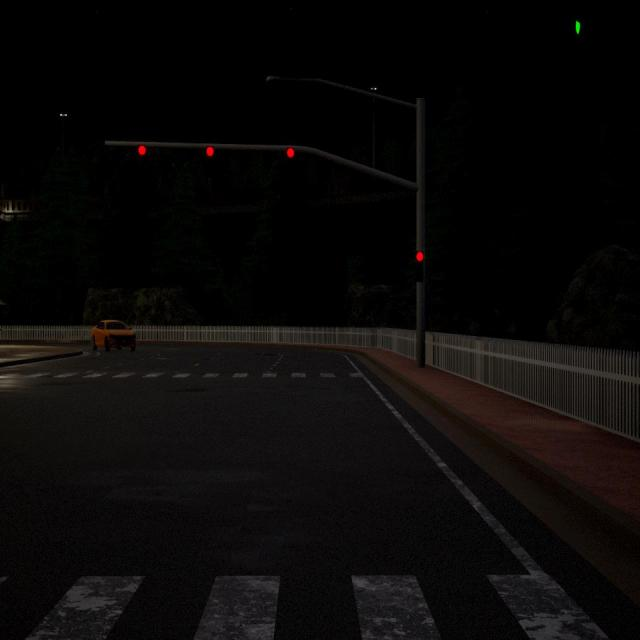Vehicle: (90, 320, 138, 351)
traffic_light: (414, 250, 424, 280), (572, 18, 584, 35), (138, 144, 146, 155), (206, 146, 214, 156), (287, 147, 294, 158)
